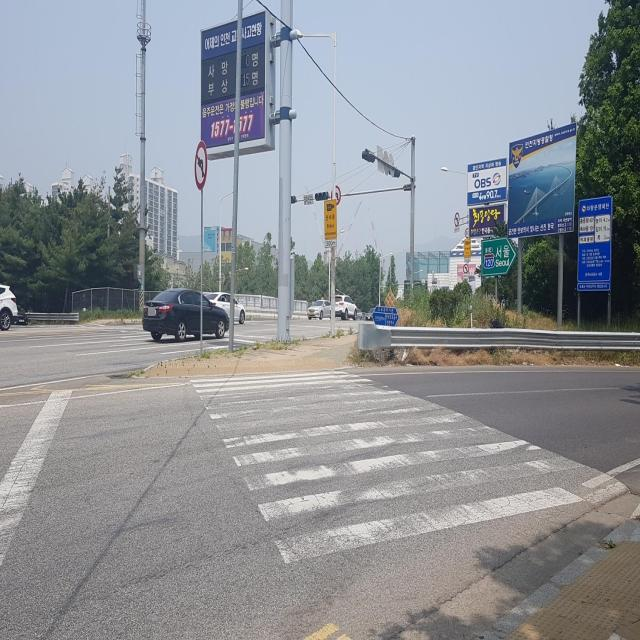횡단보도: (188, 368, 587, 570)
